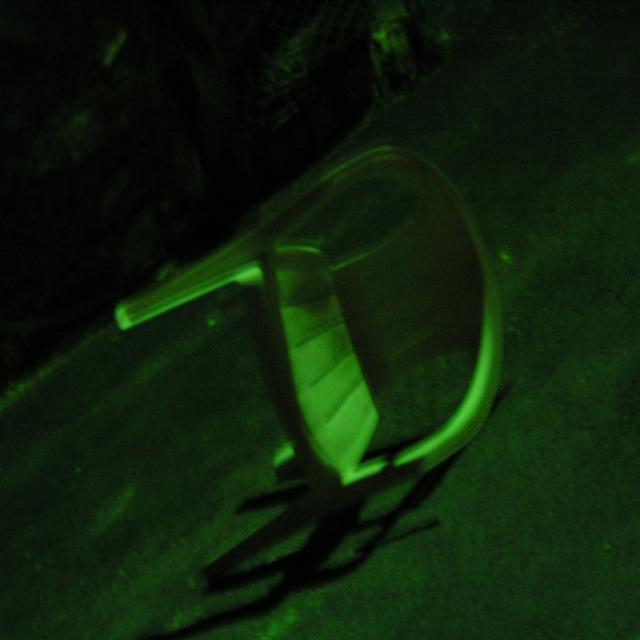chair: (108, 149, 524, 596)
